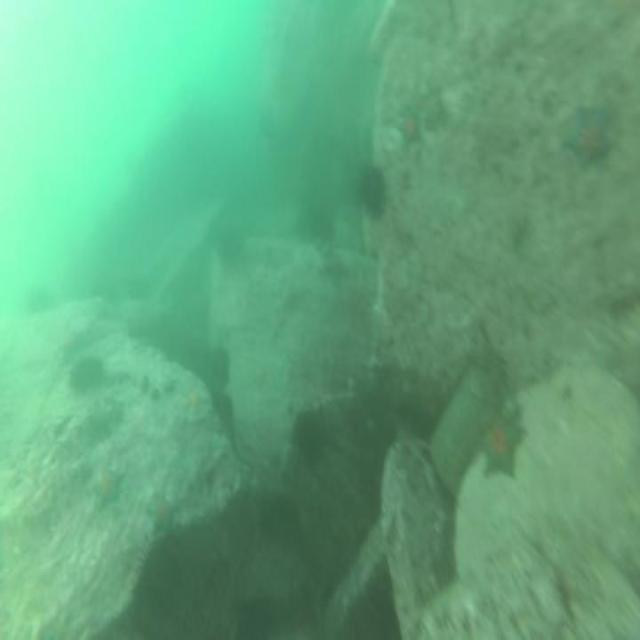echinus: (130, 542, 180, 626), (219, 488, 264, 566), (292, 403, 331, 472), (257, 485, 300, 547), (356, 158, 388, 229), (212, 216, 246, 274), (67, 354, 105, 398), (202, 346, 232, 394), (303, 207, 336, 247), (20, 283, 55, 319), (209, 389, 235, 433)
starfish: (565, 102, 618, 178), (478, 408, 529, 482), (140, 490, 182, 537), (89, 463, 126, 514), (396, 98, 425, 158), (178, 379, 212, 417), (318, 247, 350, 284)
